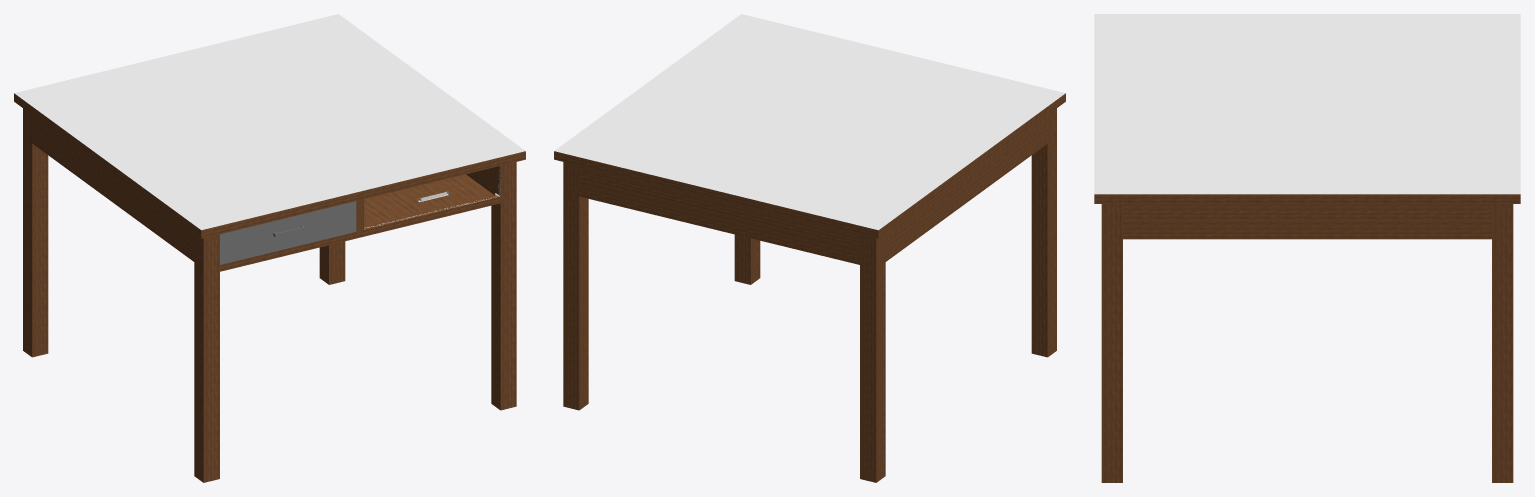
File: desk.gltf
The picture shows the model from 3 angles, left to right: view 1: azimuth 30°, elevation 25°; view 2: azimuth 150°, elevation 25°; view 3: azimuth 270°, elevation 25°; orthographic projection. The views are drawn at different scales.
Visible parts, largest first — view 1: TableTop, TableLeg (×4), Drawer (×2), TableSide, UnderDrawer, DrawerPlate; view 2: TableTop, TableLeg (×4), TableSide (×2); view 3: TableTop, TableSide, TableLeg (×2).
Part boxes in pixels (x1,y1,x2,y2): TableTop: (14, 14, 525, 238); TableLeg (×4): (23, 108, 516, 482); Drawer (×2): (220, 166, 500, 264); TableSide: (32, 115, 194, 261); UnderDrawer: (220, 192, 500, 271); DrawerPlate: (364, 174, 489, 222); TableTop: (554, 14, 1065, 238); TableLeg (×4): (563, 108, 1056, 482); TableSide (×2): (579, 115, 1047, 264); TableTop: (1094, 14, 1520, 203); TableSide: (1123, 204, 1491, 239); TableLeg (×2): (1101, 204, 1513, 482).
Size of the model in its own units: 1 by 0.7551 by 1.
3 materials, 1 textured.
